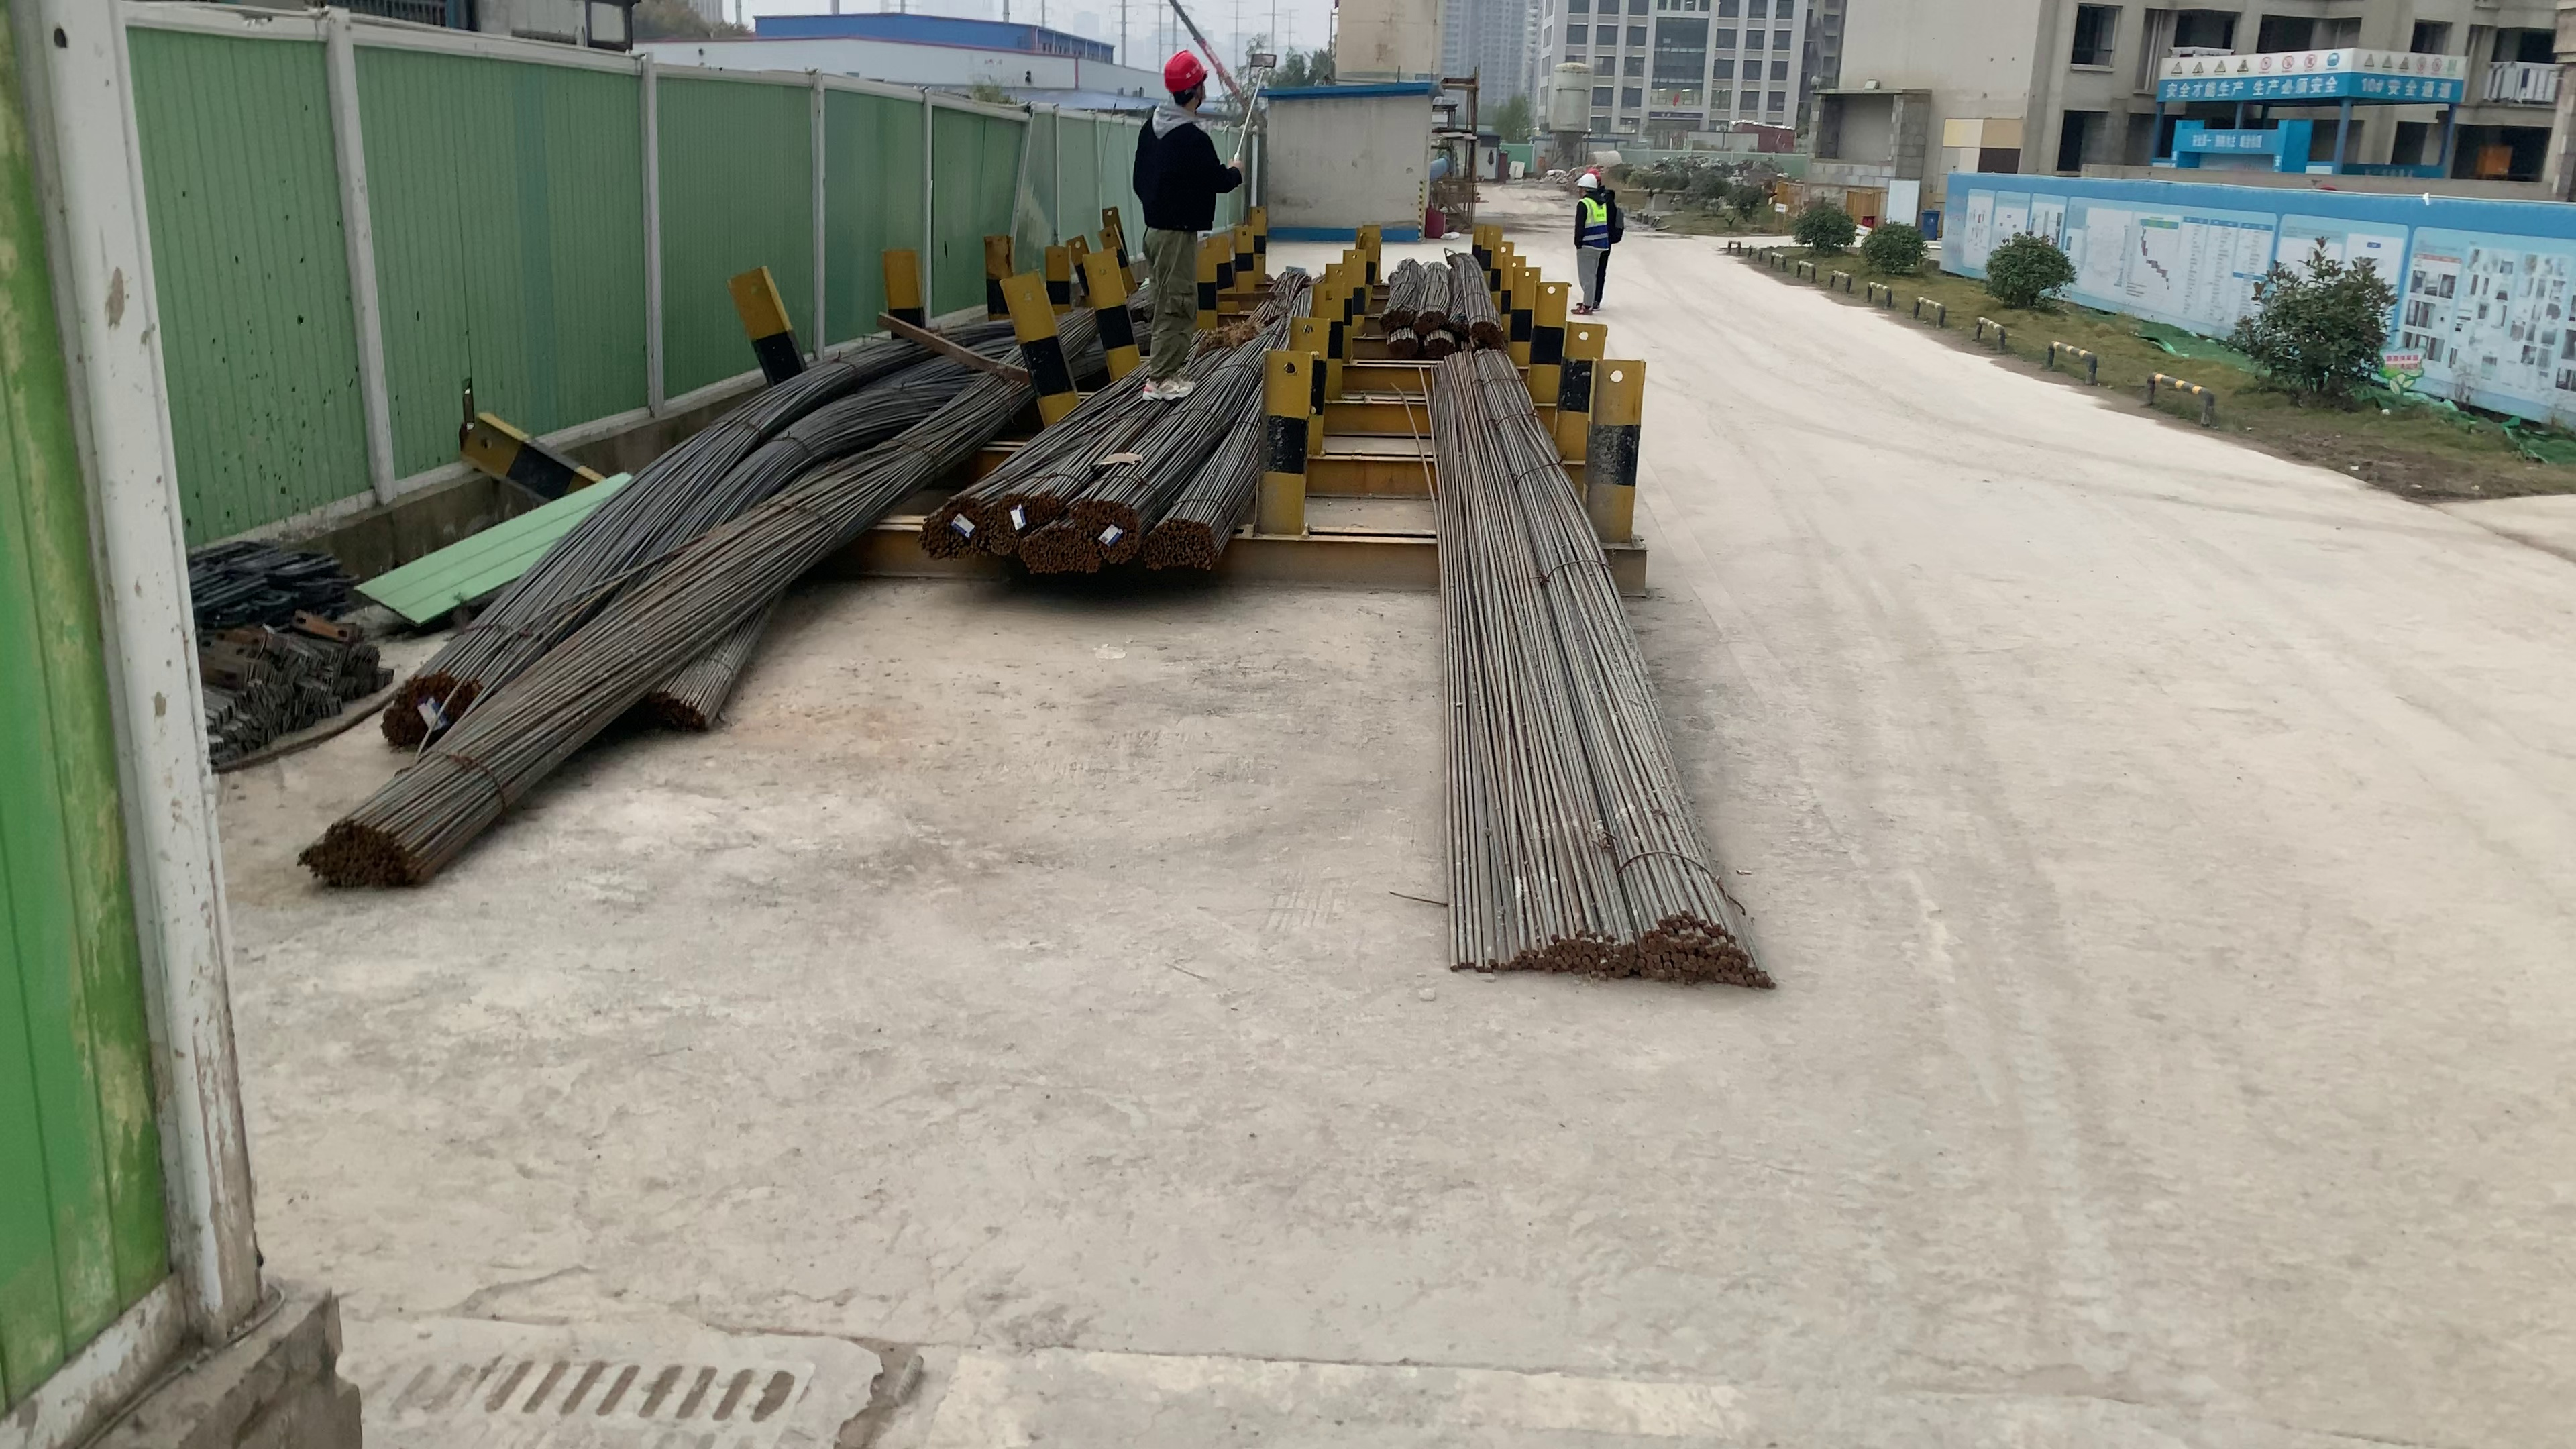rebar: (1445, 908, 1780, 993), (301, 826, 428, 885), (377, 671, 485, 738), (1063, 490, 1139, 559), (1143, 513, 1217, 571), (980, 494, 1060, 547), (920, 495, 985, 556), (630, 694, 708, 736), (1028, 525, 1092, 577), (1470, 308, 1504, 345), (1385, 299, 1414, 329), (1421, 308, 1451, 331), (1431, 333, 1456, 357), (1387, 334, 1421, 350)
